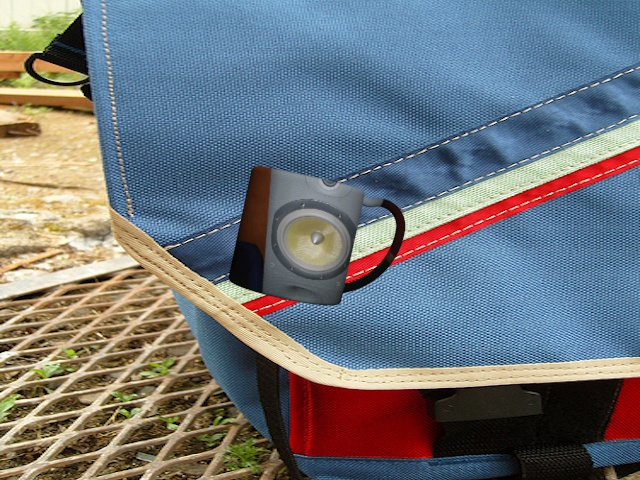mug: (225, 160, 416, 312)
